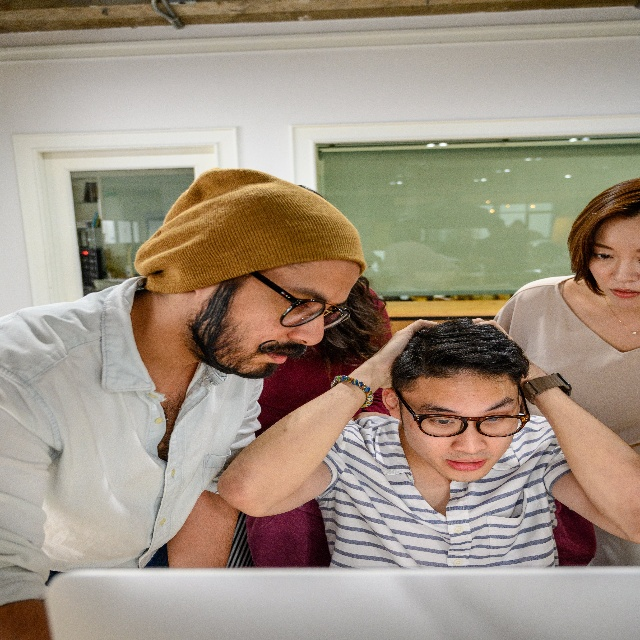Gafas: (391, 385, 530, 451), (252, 270, 352, 333)
Sin_guantes: (372, 317, 436, 390)
